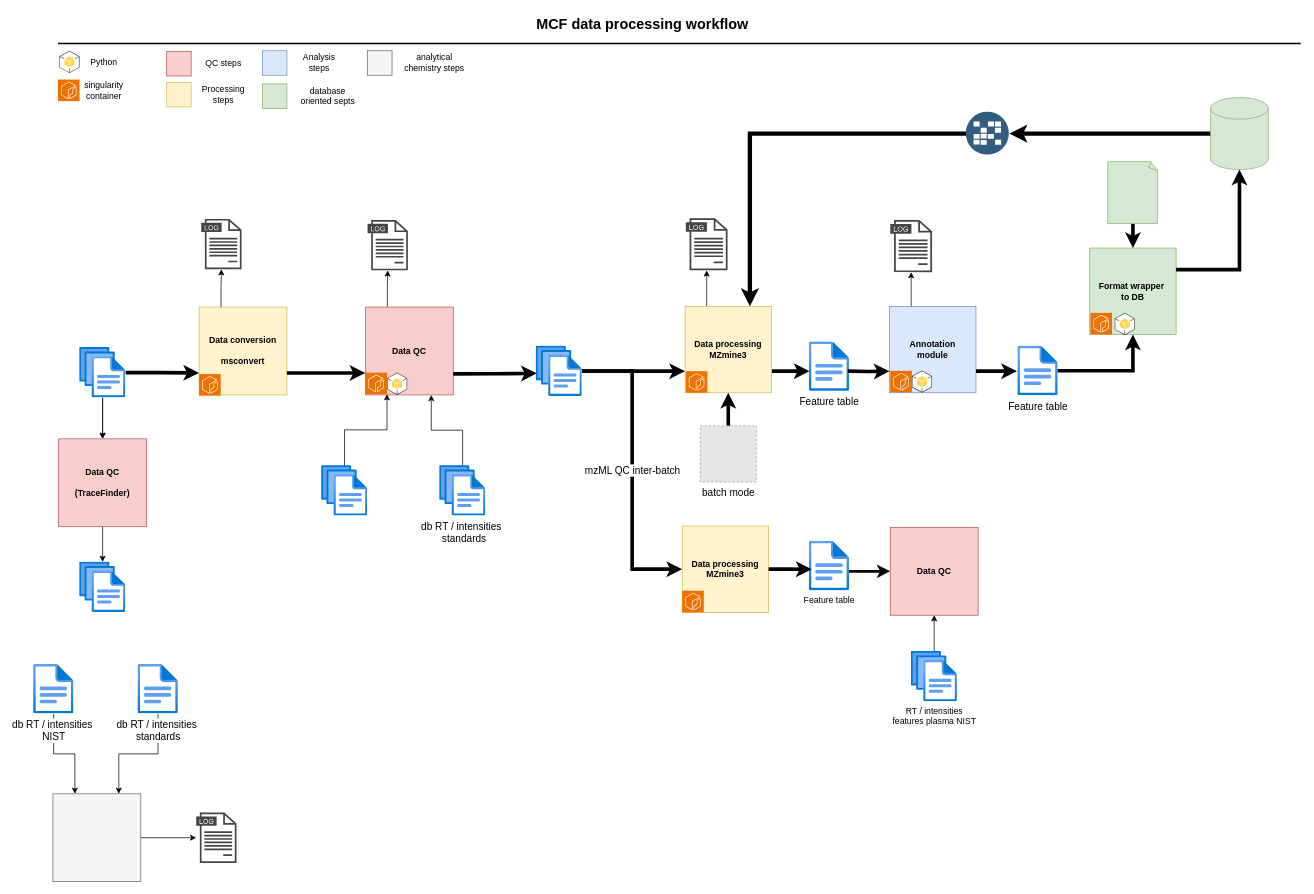
Image size: 1314x894. Some labels were removed from this diagram. Grey dashed boxes stand in for pictures. Here are the shapes that lost their labels. From the top down, the centre of each, then its label:
At [987,133]: "spectra.mgf".
At [1239,133]: "MCF DB".
At [1132,192]: "metadata".
At [102,372]: ".raw ou .d".
At [559,371]: ".mzml".
At [344,490]: "db RT / Intensities standards marqué".
At [102,587]: "db RT / intensities echantillons spikés".
At [96,837]: "Vérif pré-séquence".
